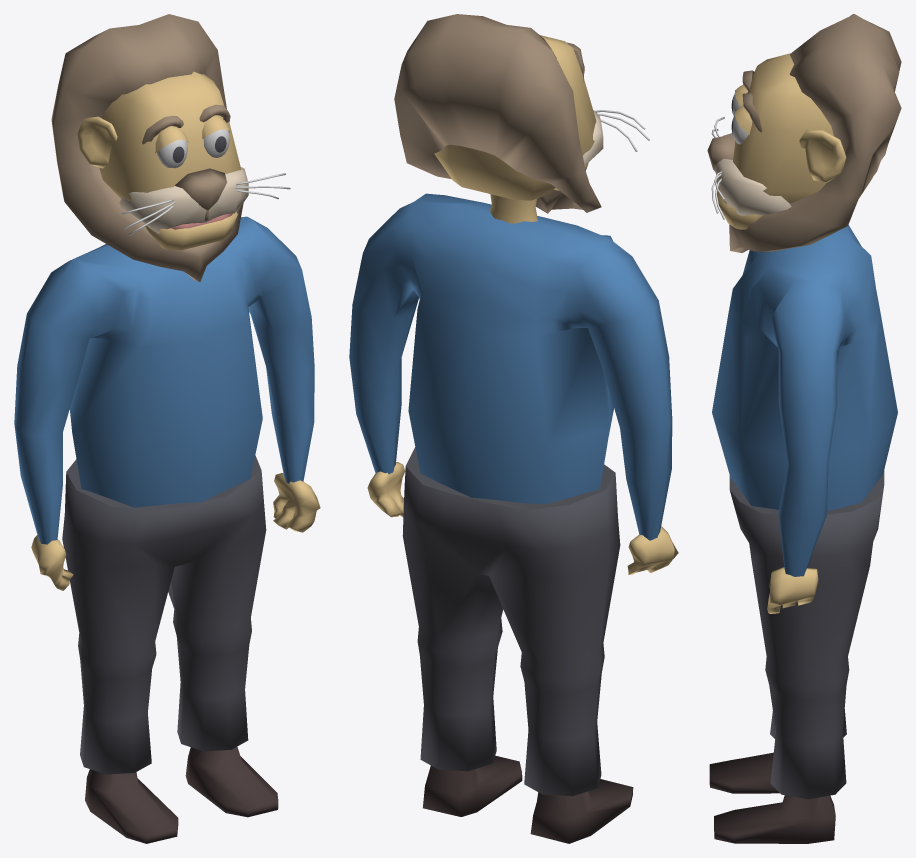
File: lion_male.dae
3 renders of one model, left to right at view 1: azimuth 30°, elevation 25°; view 2: azimuth 150°, elevation 25°; view 3: azimuth 270°, elevation 25°, orthographic. The views are drawn at different scales.
Parts seen in each view (by area): view 1: Mesh_007, Mesh_003, Mesh_021, Mesh_008, Mesh_022, Mesh_005, Mesh_014, Mesh_011, Mesh_001, Mesh_018, Mesh_016, Mesh_020 (+2 smaller); view 2: Mesh_007, Mesh_003, Mesh_021, Mesh_008, Mesh_022, Mesh_005, Mesh_020, Mesh_011, Mesh_012; view 3: Mesh_007, Mesh_003, Mesh_021, Mesh_008, Mesh_005, Mesh_014, Mesh_022, Mesh_013, Mesh_011, Mesh_016, Mesh_001.
Part boxes in pixels (<box>): Mesh_007: <box>14,216,314,544</box>; Mesh_003: <box>62,455,266,774</box>; Mesh_021: <box>51,14,243,281</box>; Mesh_008: <box>99,71,241,200</box>; Mesh_022: <box>85,769,178,843</box>; Mesh_005: <box>185,747,278,817</box>; Mesh_014: <box>119,167,248,233</box>; Mesh_011: <box>273,473,320,532</box>; Mesh_001: <box>144,211,237,250</box>; Mesh_018: <box>77,116,117,168</box>; Mesh_016: <box>175,168,226,210</box>; Mesh_020: <box>31,535,73,590</box>; Mesh_007: <box>349,193,672,540</box>; Mesh_003: <box>402,447,620,796</box>; Mesh_021: <box>394,14,601,213</box>; Mesh_008: <box>434,35,596,201</box>; Mesh_022: <box>530,779,633,843</box>; Mesh_005: <box>423,755,522,816</box>; Mesh_020: <box>627,526,678,574</box>; Mesh_011: <box>367,462,405,517</box>; Mesh_012: <box>490,194,537,223</box>; Mesh_007: <box>712,225,897,576</box>; Mesh_003: <box>729,470,884,799</box>; Mesh_021: <box>729,14,901,252</box>; Mesh_008: <box>732,53,872,203</box>; Mesh_005: <box>714,795,835,843</box>; Mesh_014: <box>715,133,791,215</box>; Mesh_022: <box>709,752,779,793</box>; Mesh_013: <box>799,130,846,182</box>; Mesh_011: <box>767,567,818,613</box>; Mesh_016: <box>707,134,734,171</box>; Mesh_001: <box>716,180,762,229</box>.
Size of the model in its own units: 9.24 by 5.13 by 22.61.
